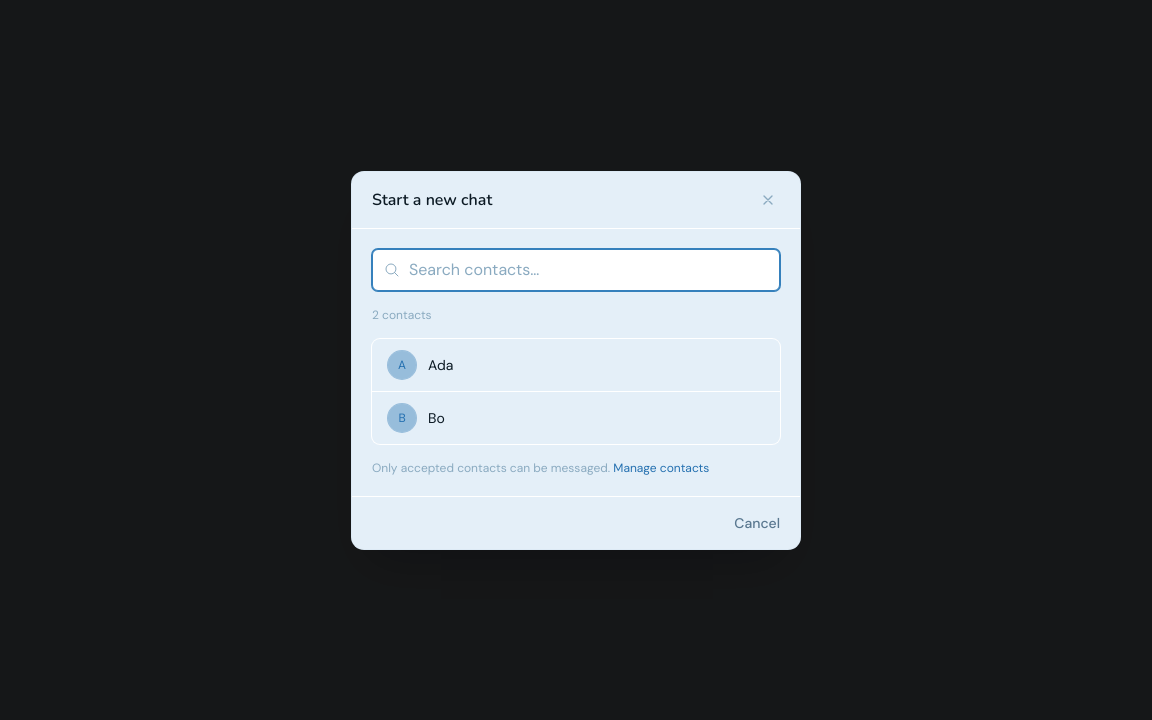
Test: NewChatModal › surfaces a server error when DM creation fails
Click the text "Ada".
click(441, 364)  # box [428,356,453,374]
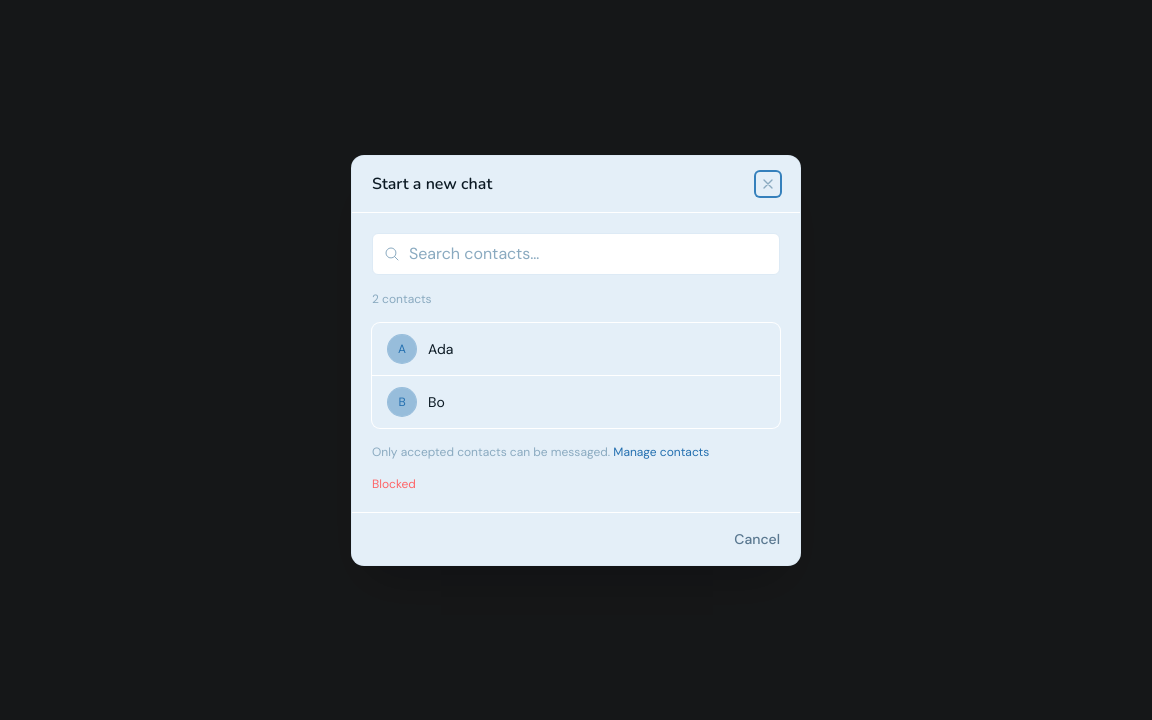
Check: the text "Blocked" is shown, box [372,476,416,492]
